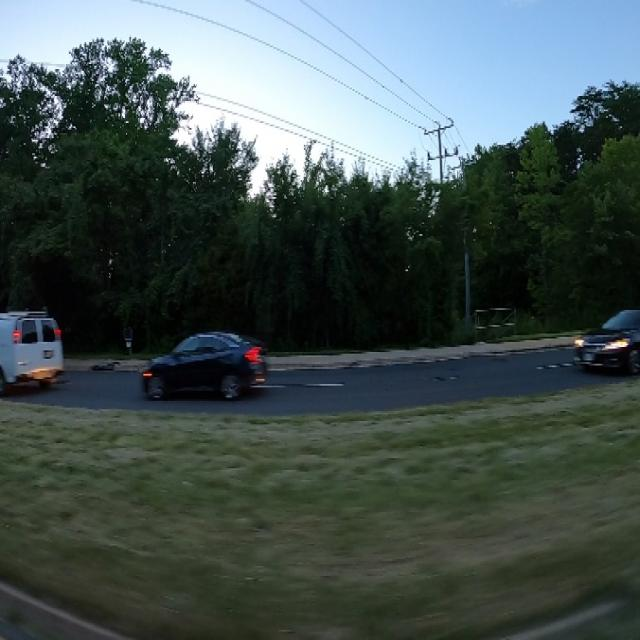Cars: (146, 324, 272, 400), (574, 307, 640, 370)
Jeep: (0, 300, 74, 389)
